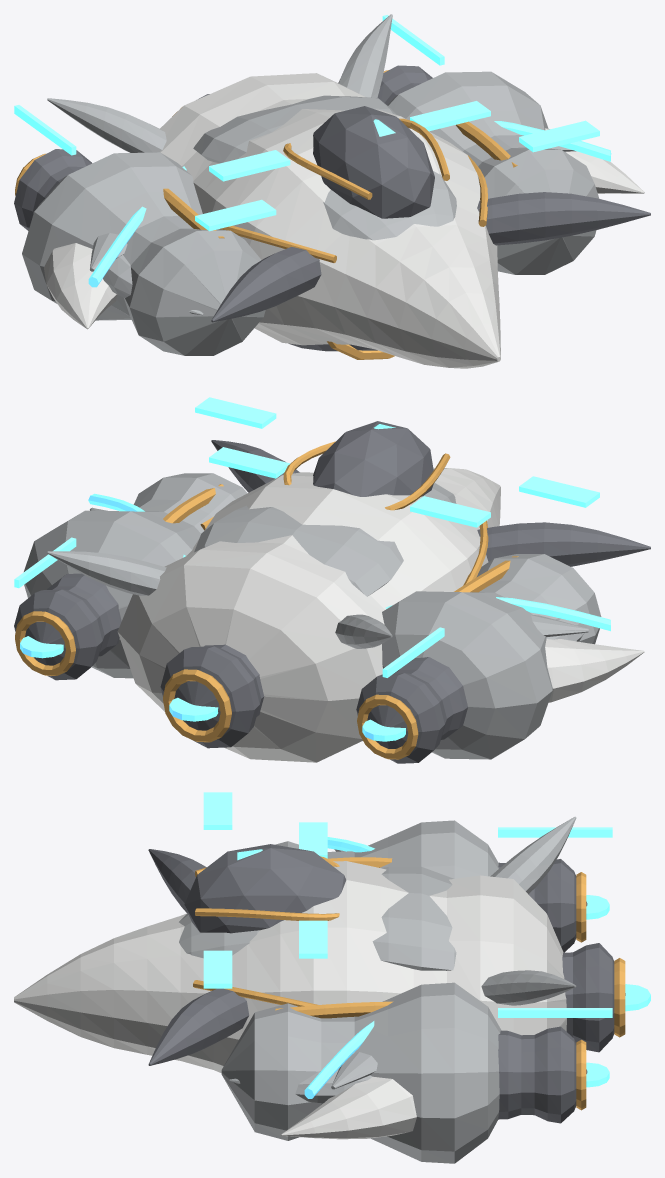
The model's file is SL_MERIDIAN_HQ.glb.
3 views of the same model, one above another, from view 1: azimuth 30°, elevation 25°; view 2: azimuth 150°, elevation 25°; view 3: azimuth 270°, elevation 25° (orthographic).
Parts seen in each view (by area): view 1: plate, armor, dark, V59 trim baked, accent, energy; view 2: armor, plate, dark, accent, V59 trim baked, energy; view 3: plate, armor, dark, V59 trim baked, accent, energy.
Boxes of the visible parts, x1=… form: plate: x1=22, y1=14, x2=599, y2=355; armor: x1=44, y1=73, x2=644, y2=368; dark: x1=14, y1=65, x2=650, y2=351; V59 trim baked: x1=14, y1=15, x2=599, y2=231; accent: x1=15, y1=70, x2=517, y2=359; energy: x1=88, y1=119, x2=611, y2=287; armor: x1=117, y1=468, x2=644, y2=762; plate: x1=24, y1=473, x2=601, y2=759; dark: x1=14, y1=421, x2=650, y2=763; accent: x1=15, y1=441, x2=518, y2=759; V59 trim baked: x1=14, y1=397, x2=599, y2=677; energy: x1=20, y1=424, x2=610, y2=741; plate: x1=179, y1=816, x2=576, y2=1163; armor: x1=14, y1=861, x2=566, y2=1139; dark: x1=148, y1=844, x2=625, y2=1123; V59 trim baked: x1=203, y1=792, x2=612, y2=1017; accent: x1=193, y1=856, x2=625, y2=1110; energy: x1=237, y1=837, x2=650, y2=1098.
Size of the model in its own units: 5.39 by 2.29 by 5.31.
